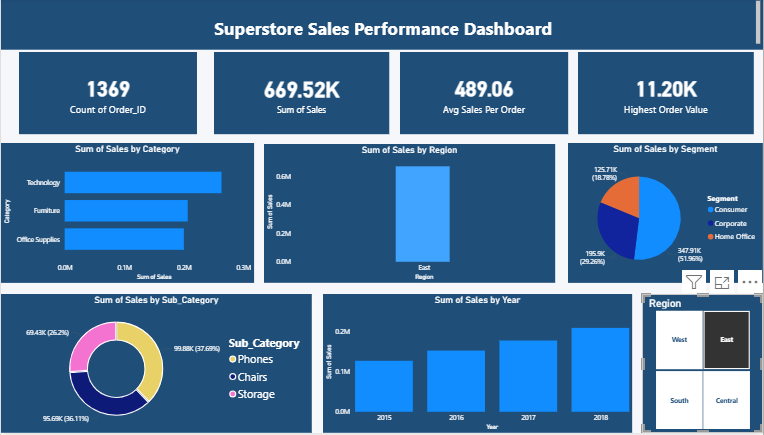

The dashboard page shown, as its layout file describes it:
{"tool":"powerbi","page":{"name":"Page 1","canvas":[1400,800],"ordinal":0},"visuals":[{"type":"card","fields":{"Values":["Sum(superstoredb superstore.Sales)"]},"box":[391.3,99.2,321.5,150.7],"z":0},{"type":"card","fields":{"Values":["Count(superstoredb superstore.Order_ID)"]},"box":[33.1,99.2,327,150.7],"z":1000},{"type":"clusteredBarChart","fields":{"Category":["superstoredb superstore.Category"],"Y":["Sum(superstoredb superstore.Sales)"]},"box":[0,266.4,464.8,257.2],"z":2000},{"type":"clusteredColumnChart","fields":{"Category":["superstoredb superstore.Region"],"Y":["Sum(superstoredb superstore.Sales)"]},"box":[483.2,268.2,534.6,255.4],"z":3000},{"type":"pieChart","fields":{"Category":["superstoredb superstore.Segment"],"Y":["Sum(superstoredb superstore.Sales)"]},"box":[1041.7,266.4,358.3,257.2],"z":4000},{"type":"lineClusteredColumnComboChart","fields":{"Category":["superstoredb superstore.Order_Date.Variation.Date Hierarchy.Year","superstoredb superstore.Order_Date.Variation.Date Hierarchy.Quarter","superstoredb superstore.Order_Date.Variation.Date Hierarchy.Month","superstoredb superstore.Order_Date.Variation.Date Hierarchy.Day"],"Y":["Sum(superstoredb superstore.Sales)"]},"box":[591.6,543.8,567.7,255.4],"z":5000},{"type":"slicer","fields":{"Values":["superstoredb superstore.Region"]},"box":[1177.7,543.8,222.3,255.4],"z":6000},{"type":"textbox","box":[0,0,1400,95],"z":7000},{"type":"donutChart","fields":{"Category":["superstoredb superstore.Sub_Category"],"Y":["Sum(superstoredb superstore.Sales)"]},"box":[0,543.8,571.4,255.4],"z":8000},{"type":"card","fields":{"Values":["superstoredb superstore.Avg Sales Per Order"]},"box":[733.1,99.2,308.7,150.7],"z":9000},{"type":"card","fields":{"Values":["superstoredb superstore.Highest Order Value"]},"box":[1060.1,99.2,323.4,150.7],"z":10000}]}

Visuals, with their boxes in screenshot pixels (x1, y1, x2, y2), scaled from the page's 1400x800 canvas onto the 764x435 screenshot:
card - Sum(superstoredb superstore.Sales): pyautogui.locateOnScreen(214, 54, 389, 136)
card - Count(superstoredb superstore.Order_ID): pyautogui.locateOnScreen(18, 54, 197, 136)
clusteredBarChart - superstoredb superstore.Category x Sum(superstoredb superstore.Sales): pyautogui.locateOnScreen(0, 145, 254, 285)
clusteredColumnChart - superstoredb superstore.Region x Sum(superstoredb superstore.Sales): pyautogui.locateOnScreen(264, 146, 555, 285)
pieChart - superstoredb superstore.Segment x Sum(superstoredb superstore.Sales): pyautogui.locateOnScreen(568, 145, 763, 285)
lineClusteredColumnComboChart - superstoredb superstore.Order_Date.Variation.Date Hierarchy.Year x superstoredb superstore.Order_Date.Variation.Date Hierarchy.Quarter: pyautogui.locateOnScreen(323, 296, 633, 434)
slicer - superstoredb superstore.Region: pyautogui.locateOnScreen(643, 296, 763, 434)
textbox: pyautogui.locateOnScreen(0, 0, 763, 52)
donutChart - superstoredb superstore.Sub_Category x Sum(superstoredb superstore.Sales): pyautogui.locateOnScreen(0, 296, 312, 434)
card - superstoredb superstore.Avg Sales Per Order: pyautogui.locateOnScreen(400, 54, 569, 136)
card - superstoredb superstore.Highest Order Value: pyautogui.locateOnScreen(579, 54, 755, 136)
